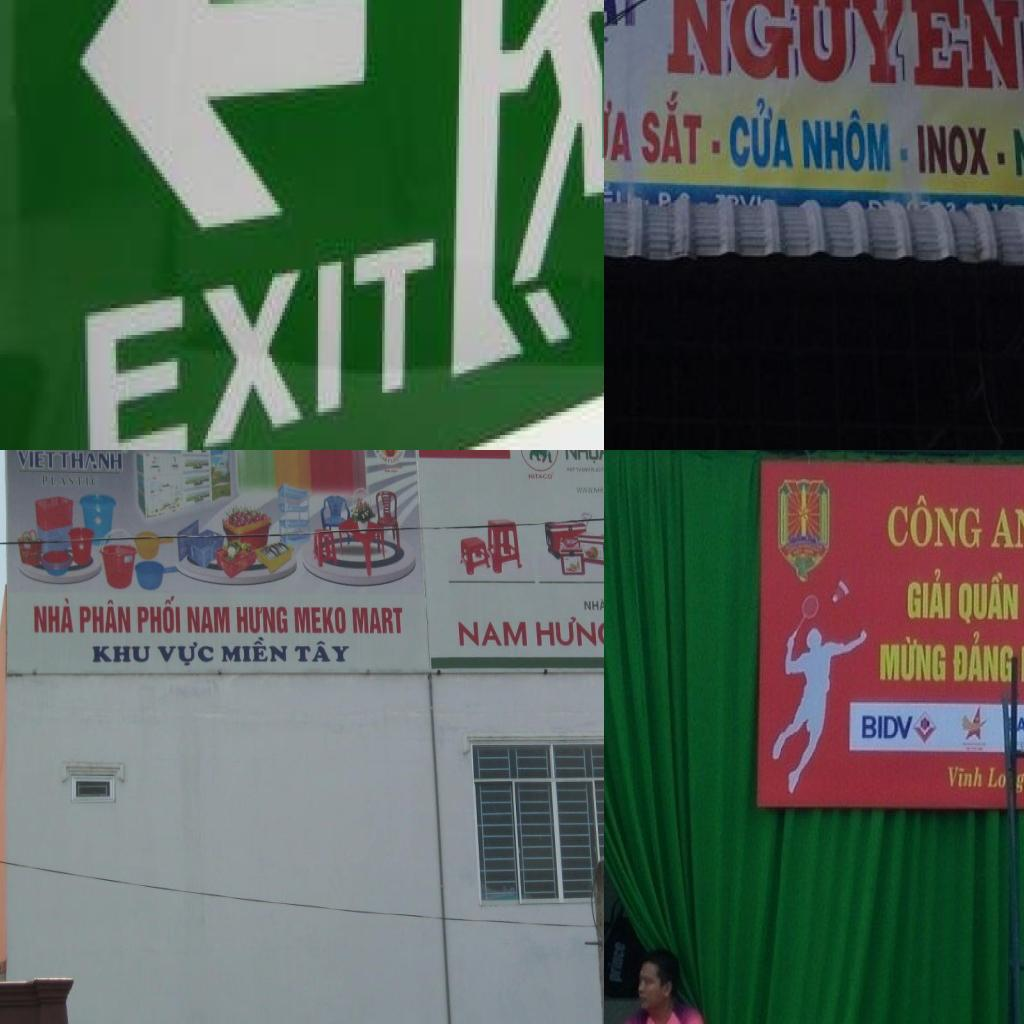text: (54, 215, 451, 450), (666, 0, 1024, 94), (799, 105, 893, 175), (883, 492, 986, 554), (638, 86, 705, 168), (728, 93, 796, 172), (954, 567, 1023, 628), (916, 123, 992, 178), (876, 631, 947, 685), (950, 630, 1016, 684), (902, 567, 955, 624), (604, 88, 634, 166), (535, 616, 604, 647), (986, 503, 1024, 554), (858, 711, 917, 743), (458, 621, 528, 647), (80, 600, 132, 634), (221, 637, 288, 663), (137, 596, 181, 633), (157, 641, 215, 668), (293, 606, 347, 635), (943, 758, 986, 793), (351, 607, 404, 635), (34, 597, 75, 633), (236, 606, 288, 634), (294, 640, 352, 664), (58, 452, 123, 471), (187, 606, 231, 634), (92, 646, 150, 664), (16, 450, 57, 469), (42, 476, 98, 488), (986, 762, 1009, 790), (564, 450, 604, 464), (1013, 767, 1024, 799), (583, 598, 604, 611), (1014, 712, 1024, 736), (575, 486, 604, 494), (528, 473, 553, 481)
